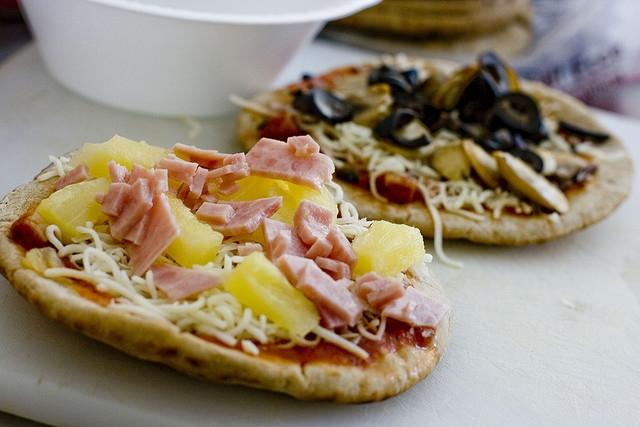mushroom: (492, 150, 570, 214), (373, 128, 460, 160), (432, 62, 480, 108), (462, 139, 501, 189), (528, 146, 586, 179), (432, 144, 472, 182), (331, 84, 392, 108), (496, 143, 544, 172), (354, 95, 394, 127), (559, 120, 610, 144)
pineapple: (224, 250, 320, 336), (65, 134, 191, 182), (34, 177, 110, 246), (162, 191, 224, 269), (351, 220, 426, 280), (250, 182, 298, 246), (284, 180, 338, 228), (216, 175, 291, 202)
